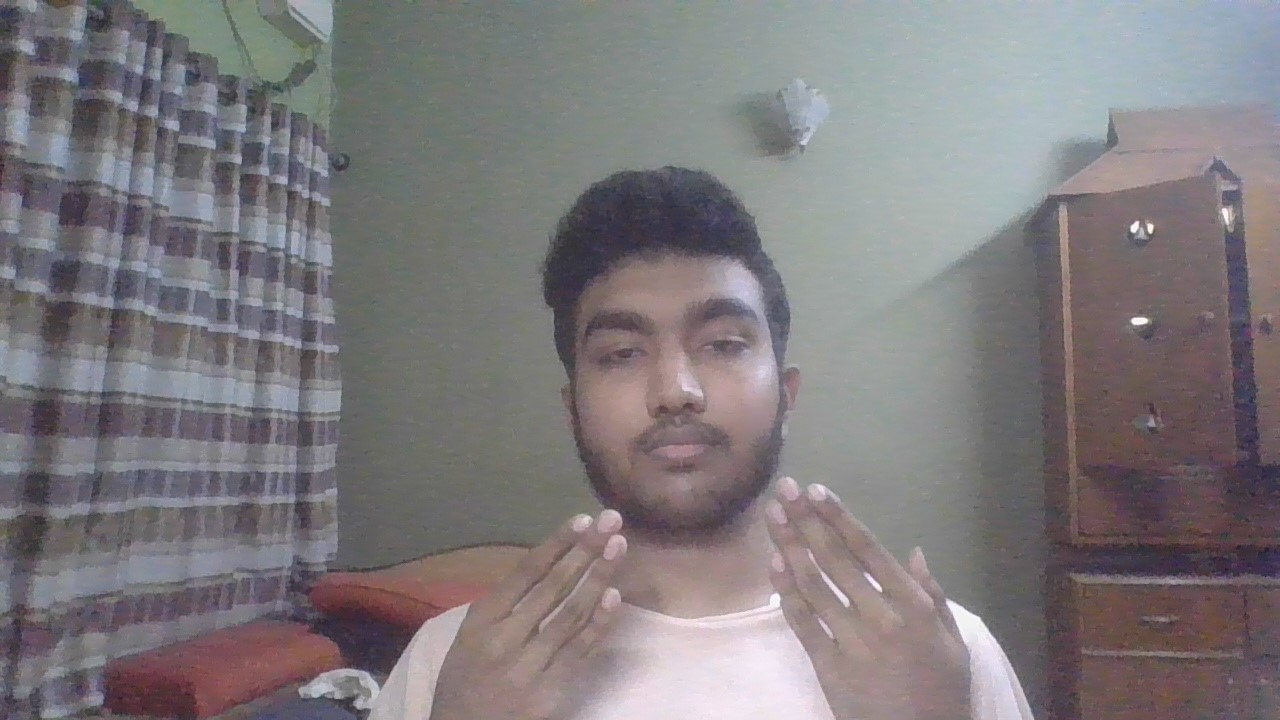Thank You: (441, 465, 981, 720)
